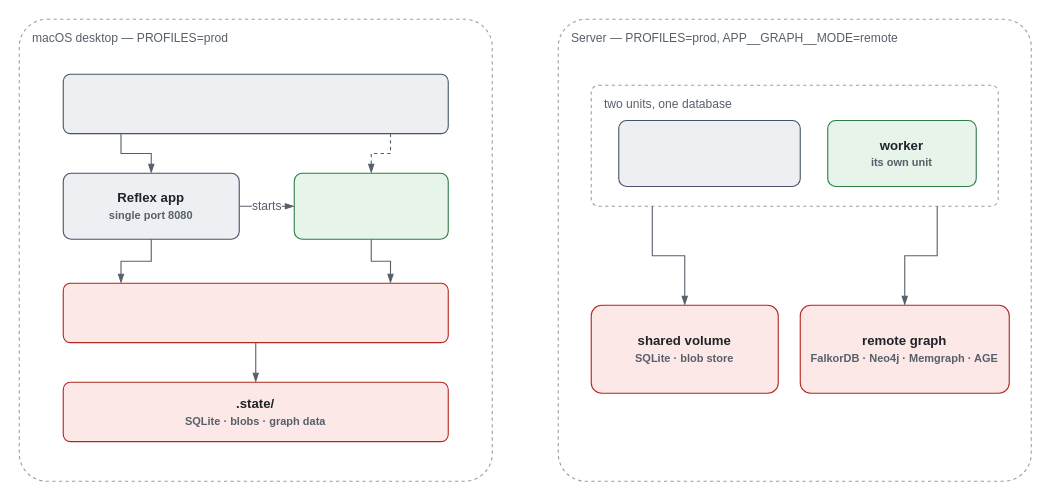
The diagram is 1051 pixels wide and 501 high, and some of its shapes have lost their labels. Each missing label, with the centre of its shape:
"Reflex app supervise_worker: false" belongs at pixel 709 152.
"Tauri shell mail-archive.app" belongs at pixel 255 103.
"vendored FalkorDB redis-server + falkordb.so" belongs at pixel 255 312.
"worker child process" belongs at pixel 370 205.
